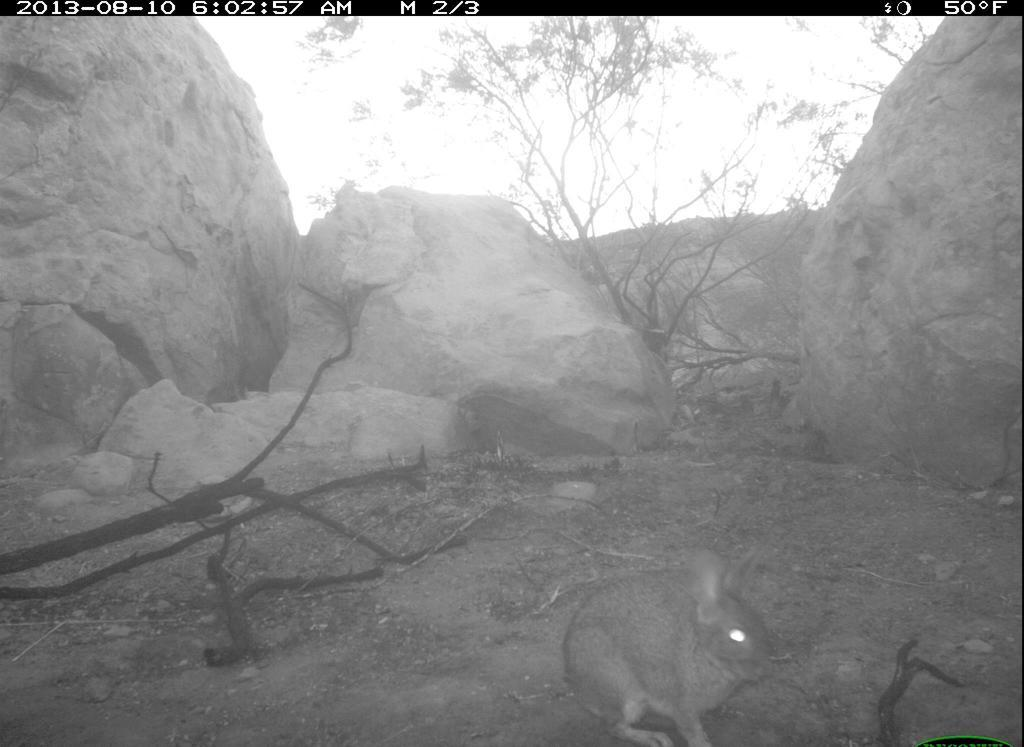rabbit: (560, 541, 783, 747)
